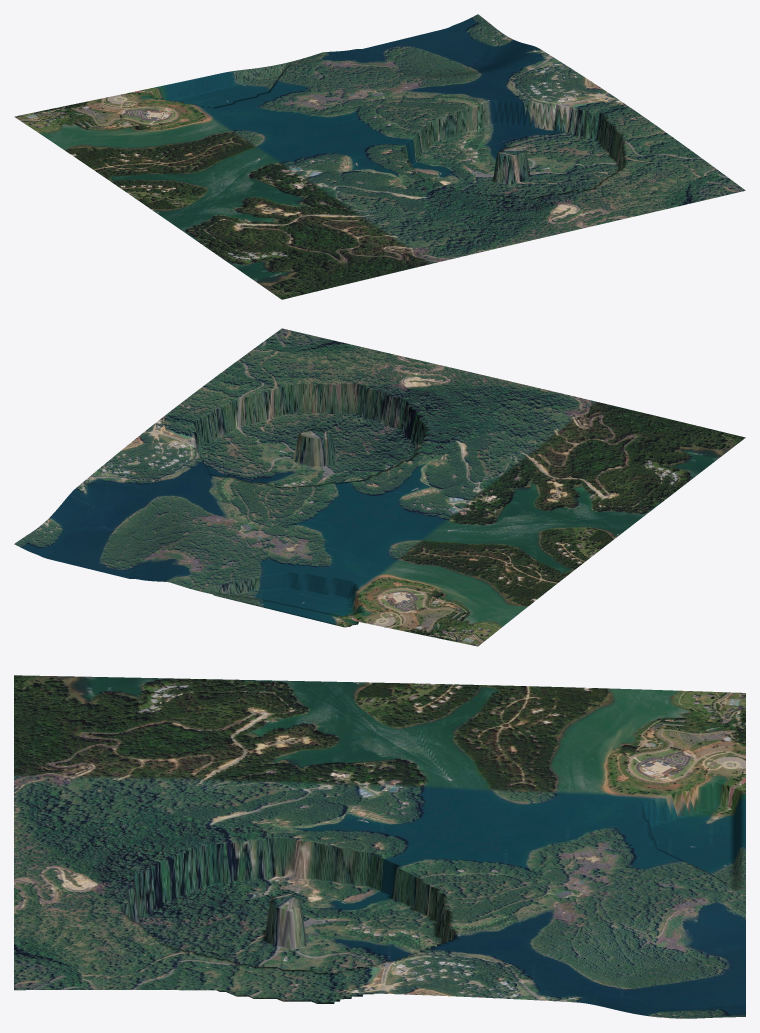
The model's file is terrain_real_T_W01_S03.glb.
3 views of the same model, one above another, from view 1: azimuth 30°, elevation 25°; view 2: azimuth 150°, elevation 25°; view 3: azimuth 270°, elevation 25° (orthographic). The views are drawn at different scales.
Parts seen in each view (by area): view 1: TerrainReal_T_W01_S03; view 2: TerrainReal_T_W01_S03; view 3: TerrainReal_T_W01_S03.
Part boxes in pixels (x1=…): TerrainReal_T_W01_S03: x1=14, y1=14, x2=745, y2=299; TerrainReal_T_W01_S03: x1=14, y1=328, x2=745, y2=646; TerrainReal_T_W01_S03: x1=14, y1=675, x2=745, y2=1018.
Bounding box in the file's own units: 2000 × 127 × 2000.
Materials: 1 (1 with a texture image).
